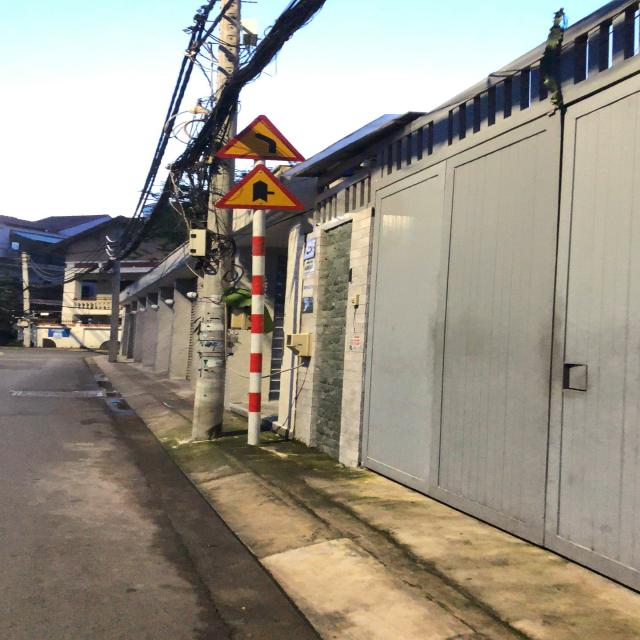Bien bao cho ngoat nguy hiem: (208, 108, 316, 162)
Bien bao giao nhau voi duong khong uu tien: (208, 162, 307, 215)
